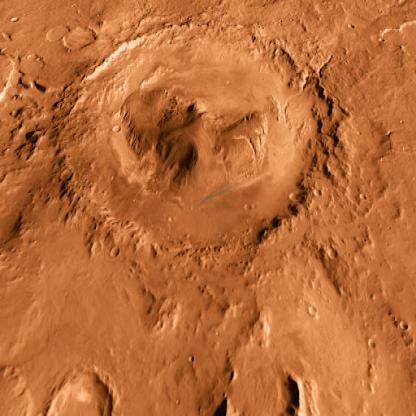craters: (53, 22, 346, 287), (120, 94, 291, 208), (21, 369, 163, 415), (270, 346, 340, 414), (50, 8, 102, 59), (15, 30, 53, 98)
